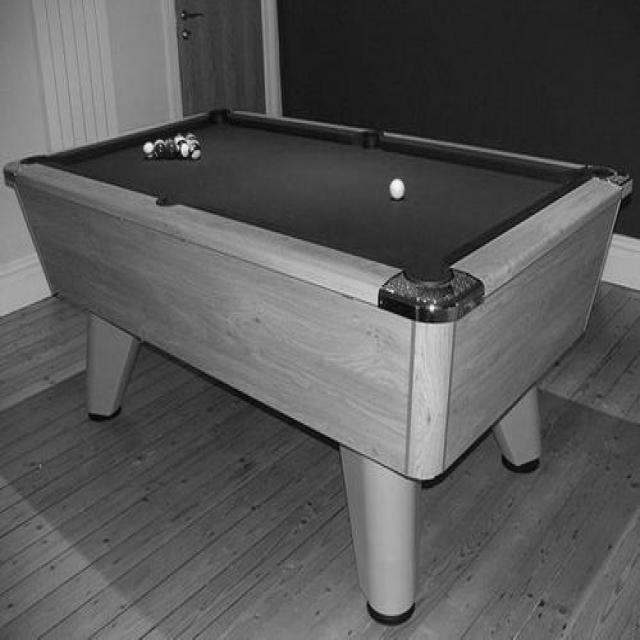table: (6, 104, 630, 625)
